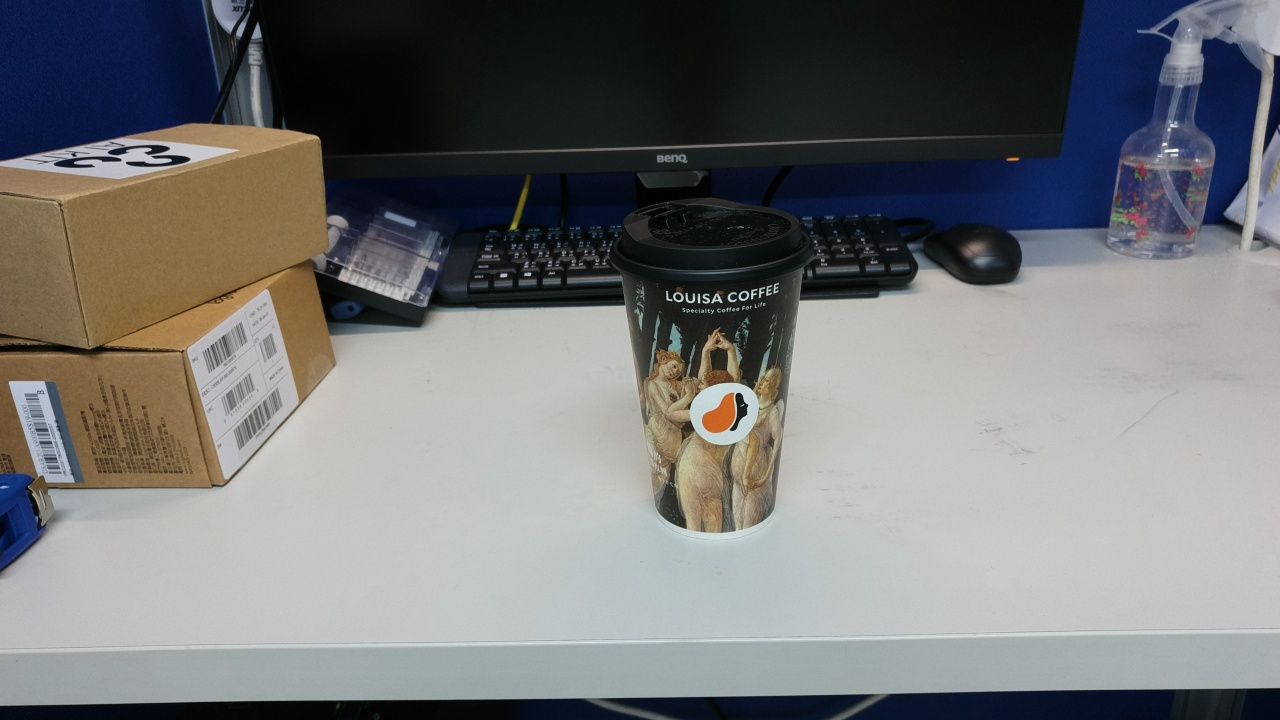blade: (718, 488, 790, 564)
grasp: (594, 551, 756, 681)
